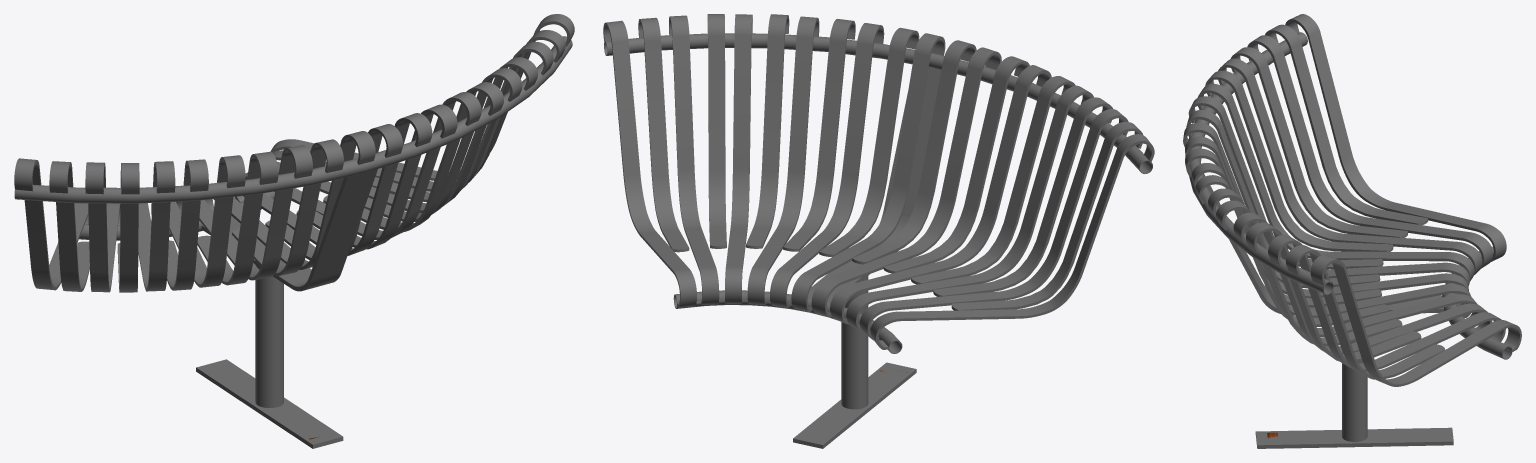
3 renders of one model, left to right at view 1: azimuth 30°, elevation 25°; view 2: azimuth 150°, elevation 25°; view 3: azimuth 270°, elevation 25°, orthographic. The views are drawn at different scales.
Visible parts, largest first — view 1: mesh7_mesh7-geometry, mesh32_mesh32-geometry, mesh1_mesh1-geometry, mesh18_mesh18-geometry, mesh14_mesh14-geometry, mesh16_mesh16-geometry, mesh5_mesh5-geometry, mesh12_mesh12-geometry, mesh40_mesh40-geometry, mesh3_mesh3-geometry, mesh38_mesh38-geometry, mesh42_mesh42-geometry (+12 smaller); view 2: mesh20_mesh20-geometry, mesh22_mesh22-geometry, mesh30_mesh30-geometry, mesh18_mesh18-geometry, mesh24_mesh24-geometry, mesh32_mesh32-geometry, mesh28_mesh28-geometry, mesh26_mesh26-geometry, mesh16_mesh16-geometry, mesh14_mesh14-geometry, mesh12_mesh12-geometry, mesh5_mesh5-geometry (+13 smaller); view 3: mesh32_mesh32-geometry, mesh5_mesh5-geometry, mesh12_mesh12-geometry, mesh14_mesh14-geometry, mesh30_mesh30-geometry, mesh3_mesh3-geometry, mesh36_mesh36-geometry, mesh16_mesh16-geometry, mesh28_mesh28-geometry, mesh38_mesh38-geometry, mesh7_mesh7-geometry, mesh26_mesh26-geometry (+13 smaller).
Boxes of the visible parts, left/top/right/bottom form: mesh7_mesh7-geometry: left=14, top=36, right=572, bottom=203; mesh32_mesh32-geometry: left=196, top=265, right=343, bottom=448; mesh1_mesh1-geometry: left=201, top=169, right=377, bottom=291; mesh18_mesh18-geometry: left=176, top=145, right=312, bottom=280; mesh14_mesh14-geometry: left=138, top=161, right=175, bottom=291; mesh16_mesh16-geometry: left=151, top=155, right=245, bottom=287; mesh5_mesh5-geometry: left=14, top=158, right=88, bottom=290; mesh12_mesh12-geometry: left=85, top=162, right=120, bottom=292; mesh40_mesh40-geometry: left=197, top=151, right=278, bottom=285; mesh3_mesh3-geometry: left=49, top=161, right=89, bottom=291; mesh38_mesh38-geometry: left=167, top=159, right=208, bottom=290; mesh42_mesh42-geometry: left=232, top=139, right=343, bottom=275; mesh20_mesh20-geometry: left=791, top=33, right=945, bottom=311; mesh22_mesh22-geometry: left=770, top=23, right=884, bottom=307; mesh30_mesh30-geometry: left=603, top=20, right=696, bottom=307; mesh18_mesh18-geometry: left=811, top=47, right=1001, bottom=317; mesh24_mesh24-geometry: left=747, top=16, right=819, bottom=305; mesh32_mesh32-geometry: left=793, top=276, right=916, bottom=448; mesh28_mesh28-geometry: left=669, top=15, right=719, bottom=304; mesh26_mesh26-geometry: left=725, top=14, right=752, bottom=303; mesh16_mesh16-geometry: left=830, top=65, right=1051, bottom=324; mesh14_mesh14-geometry: left=846, top=85, right=1093, bottom=331; mesh12_mesh12-geometry: left=860, top=109, right=1128, bottom=340; mesh5_mesh5-geometry: left=870, top=134, right=1154, bottom=349; mesh32_mesh32-geometry: left=1255, top=321, right=1453, bottom=448; mesh5_mesh5-geometry: left=1285, top=14, right=1506, bottom=261; mesh12_mesh12-geometry: left=1247, top=35, right=1492, bottom=268; mesh14_mesh14-geometry: left=1218, top=58, right=1482, bottom=274; mesh30_mesh30-geometry: left=1310, top=255, right=1521, bottom=386; mesh3_mesh3-geometry: left=1265, top=24, right=1428, bottom=225; mesh36_mesh36-geometry: left=1230, top=47, right=1407, bottom=237; mesh16_mesh16-geometry: left=1197, top=83, right=1474, bottom=281; mesh28_mesh28-geometry: left=1268, top=235, right=1505, bottom=371; mesh38_mesh38-geometry: left=1205, top=70, right=1393, bottom=251; mesh7_mesh7-geometry: left=1188, top=32, right=1333, bottom=294; mesh26_mesh26-geometry: left=1233, top=212, right=1492, bottom=354.
Size of the model in its own units: 0.7846 by 0.4349 by 0.4419.
